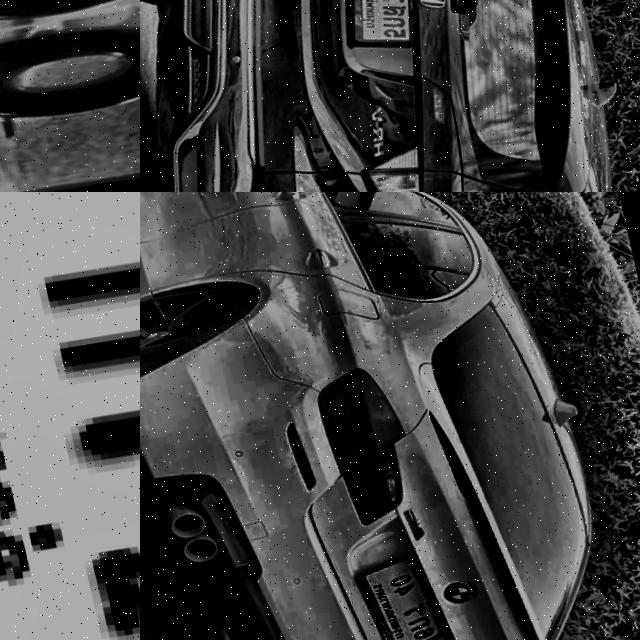license-plate: (0, 192, 140, 640), (0, 0, 140, 192), (343, 547, 451, 640), (325, 0, 430, 56)
